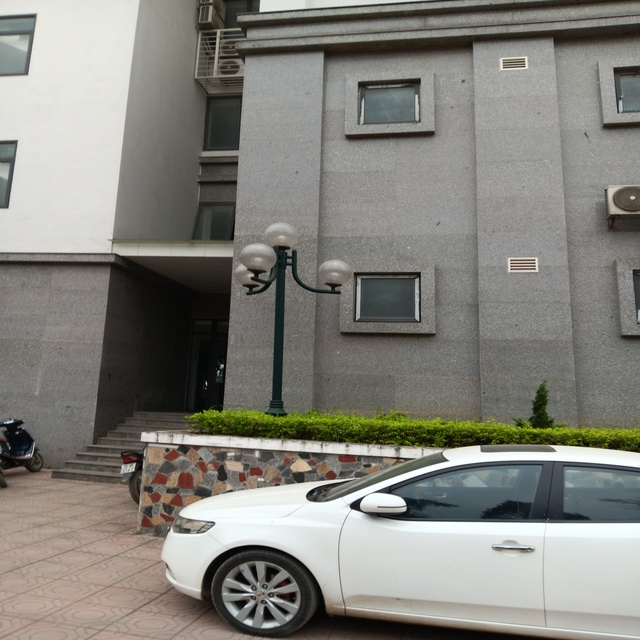cotden: (216, 221, 348, 413)
